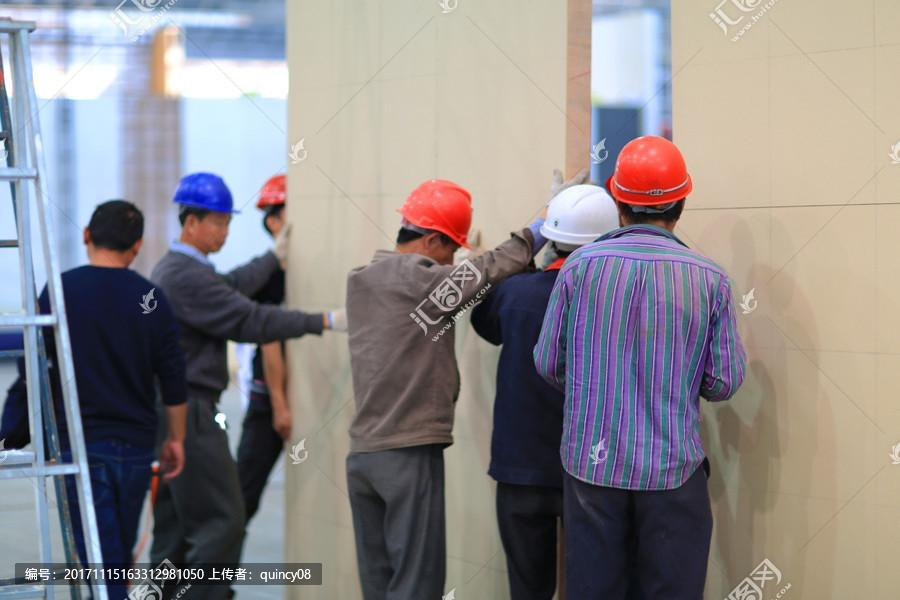helmet: (608, 135, 694, 208), (538, 184, 622, 244), (404, 179, 477, 246), (176, 174, 241, 215), (258, 173, 288, 212)
